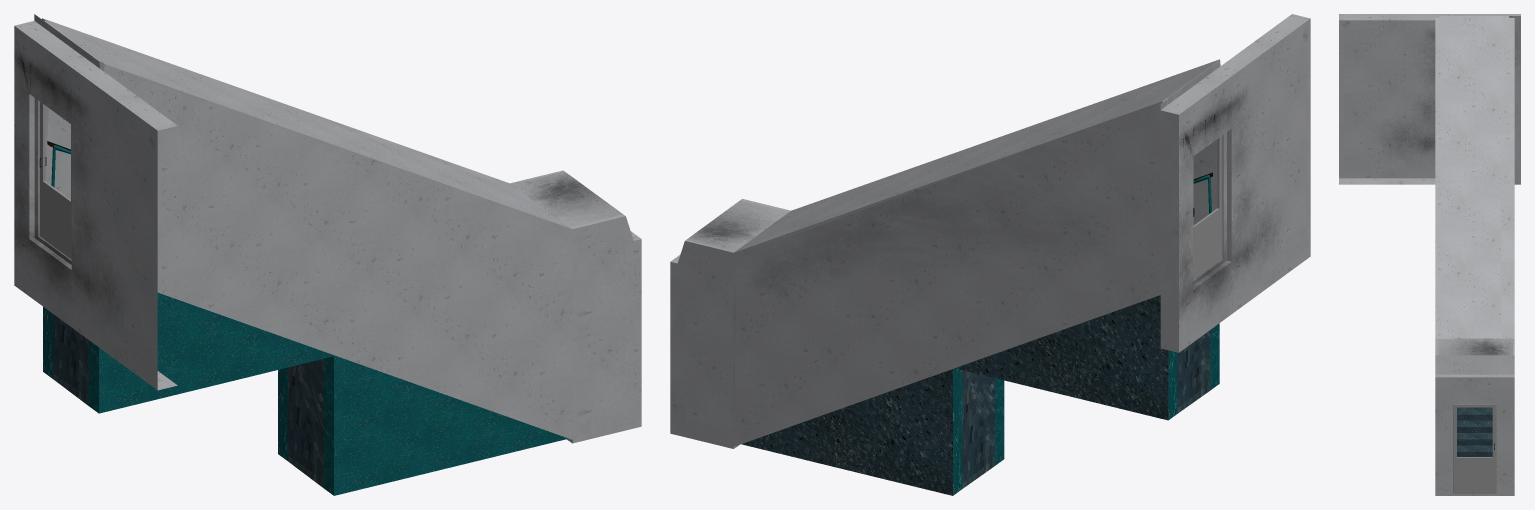
File: transition.glb
3 views of the same model, side by side, from view 1: azimuth 30°, elevation 25°; view 2: azimuth 150°, elevation 25°; view 3: azimuth 270°, elevation 25° (orthographic). The views are drawn at different scales.
Visible parts, largest first — view 1: Cube.014, Cube.013, Cube.015, Cube.003, doorframe.002; view 2: Cube.014, Cube.013, Cube.015, Cube.003, doorframe.002; view 3: Cube.014, Cube.013, doorframe.001, Cube.015.
Boxes of the visible parts, x1,y1,x2,y2 form: Cube.014: (34, 14, 641, 443); Cube.013: (14, 21, 177, 390); Cube.015: (278, 355, 568, 495); Cube.003: (43, 292, 333, 413); doorframe.002: (39, 101, 71, 259); Cube.014: (670, 59, 1220, 448); Cube.013: (1160, 14, 1310, 352); Cube.015: (741, 368, 1004, 495); Cube.003: (955, 295, 1219, 420); doorframe.002: (1193, 136, 1222, 280); Cube.014: (1435, 16, 1520, 495); Cube.013: (1339, 14, 1520, 184); doorframe.001: (1453, 404, 1496, 493); Cube.015: (1457, 407, 1492, 456).
Size of the model in its own units: 8.52 by 7.15 by 3.76.
Materials: 11 (9 with a texture image).
